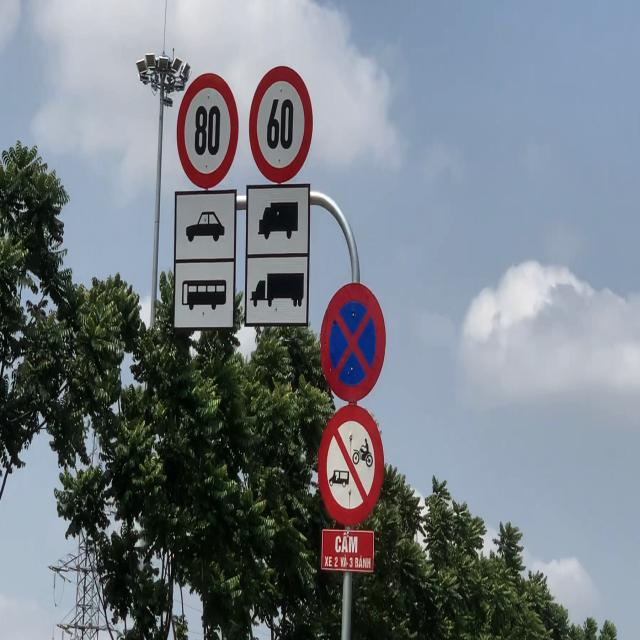Cam con lai: (317, 406, 385, 527)
Cam dung va do: (318, 276, 389, 404)
Toc do toi da: (177, 76, 238, 183), (252, 68, 311, 178)
